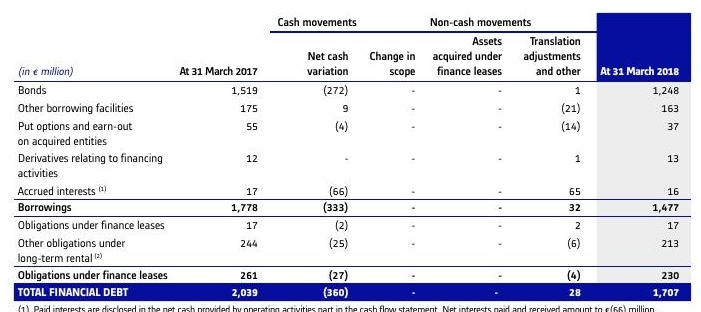table: (0, 0, 701, 312)
